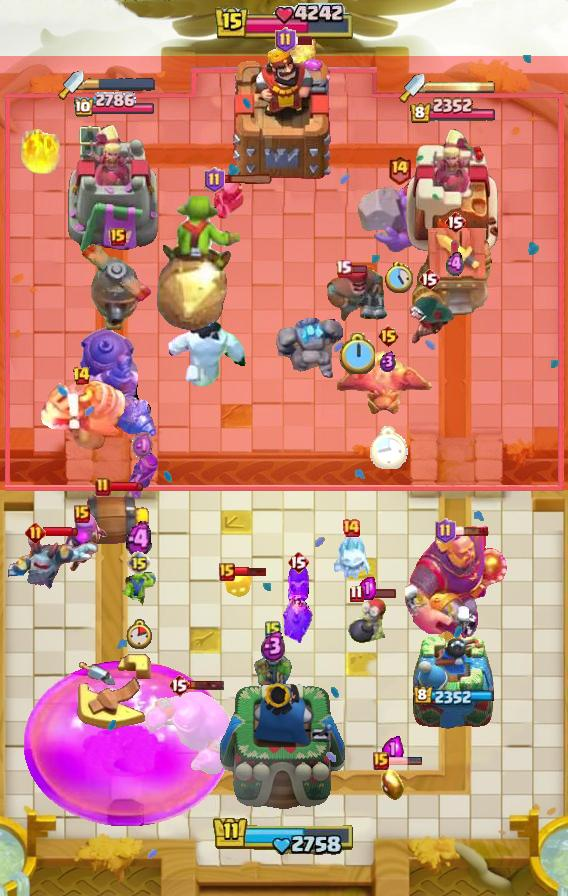archer-queen: (355, 179, 443, 255)
bar: (403, 124, 503, 256), (67, 122, 161, 256)
bat: (330, 536, 372, 580)
battle-ram: (211, 178, 247, 222)
bomber: (380, 766, 406, 802), (224, 570, 252, 600)
cannon: (125, 452, 161, 502)
clock: (212, 815, 356, 857), (213, 3, 355, 43)
clone: (143, 690, 239, 776)
dark-prince: (74, 242, 162, 330)
electro-spirit: (126, 522, 152, 559), (261, 630, 286, 662), (132, 432, 155, 461), (382, 735, 404, 763), (446, 251, 464, 278), (359, 576, 376, 600), (380, 351, 396, 373)
elixir: (369, 427, 408, 469), (339, 333, 375, 374), (385, 263, 413, 294), (126, 619, 152, 649)
elixir-golem-small: (4, 532, 100, 602)
emote: (222, 175, 274, 186), (187, 679, 225, 691), (108, 481, 144, 493), (453, 525, 489, 537), (43, 526, 79, 538), (361, 587, 397, 599), (232, 567, 268, 578), (387, 756, 423, 766), (294, 35, 314, 46), (349, 264, 368, 274)
giant-snowball: (253, 642, 293, 700)
goblin-ball: (281, 564, 315, 646)
ice-golem: (346, 598, 388, 648)
ice-spirit-evolution: (285, 40, 319, 72)
king-tower: (219, 678, 349, 826), (230, 43, 338, 181)
king-tower-bar: (84, 77, 156, 91), (425, 80, 495, 94)
knight-evolution: (22, 660, 230, 827)
lightning: (405, 527, 509, 645)
mother-witch: (337, 350, 439, 420)
night-witch: (35, 375, 127, 453)
phoenix-small: (323, 267, 391, 325)
queen-tower: (411, 627, 495, 731)
rage: (166, 312, 246, 386)
rascal-girl: (55, 512, 109, 574)
selected: (409, 97, 497, 125), (72, 93, 155, 120), (414, 686, 495, 707)
sparky: (412, 227, 498, 325)
tesla: (404, 296, 454, 344)
text: (387, 154, 412, 185), (127, 551, 151, 575), (377, 324, 400, 348), (275, 27, 296, 53), (204, 167, 225, 193), (435, 518, 456, 544), (444, 210, 466, 234), (418, 267, 440, 291), (287, 550, 309, 574), (168, 673, 190, 697), (25, 521, 46, 543), (341, 518, 361, 538), (72, 366, 91, 386), (335, 259, 353, 277), (95, 477, 111, 497), (265, 620, 281, 640), (110, 228, 126, 246), (74, 505, 90, 523), (219, 563, 235, 581), (373, 752, 389, 770), (349, 584, 364, 603)
the-log: (73, 490, 153, 550)
valkyrie: (17, 125, 65, 177)
valkyrie-evolution: (272, 313, 344, 381)
wizard: (77, 325, 159, 439)
x-bow: (154, 196, 244, 334)
zap: (121, 567, 157, 607)
